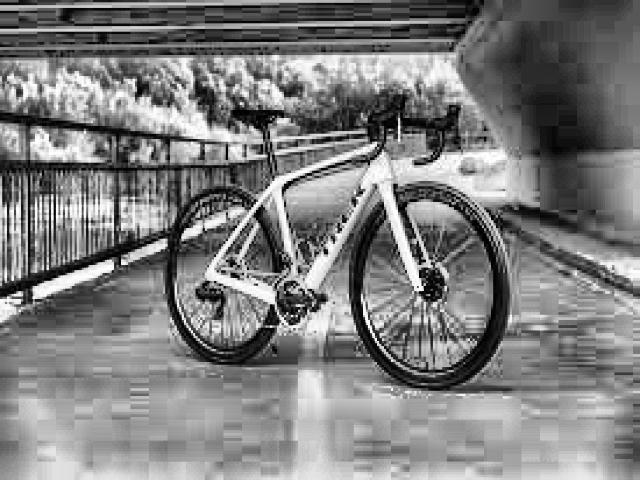cranks_set: (269, 274, 328, 330)
rear_derailleur: (193, 281, 230, 323)
saddle: (230, 105, 286, 127)
sti_shifter: (390, 88, 410, 147), (449, 99, 466, 157)
wheel: (347, 180, 513, 393), (162, 182, 287, 367)
